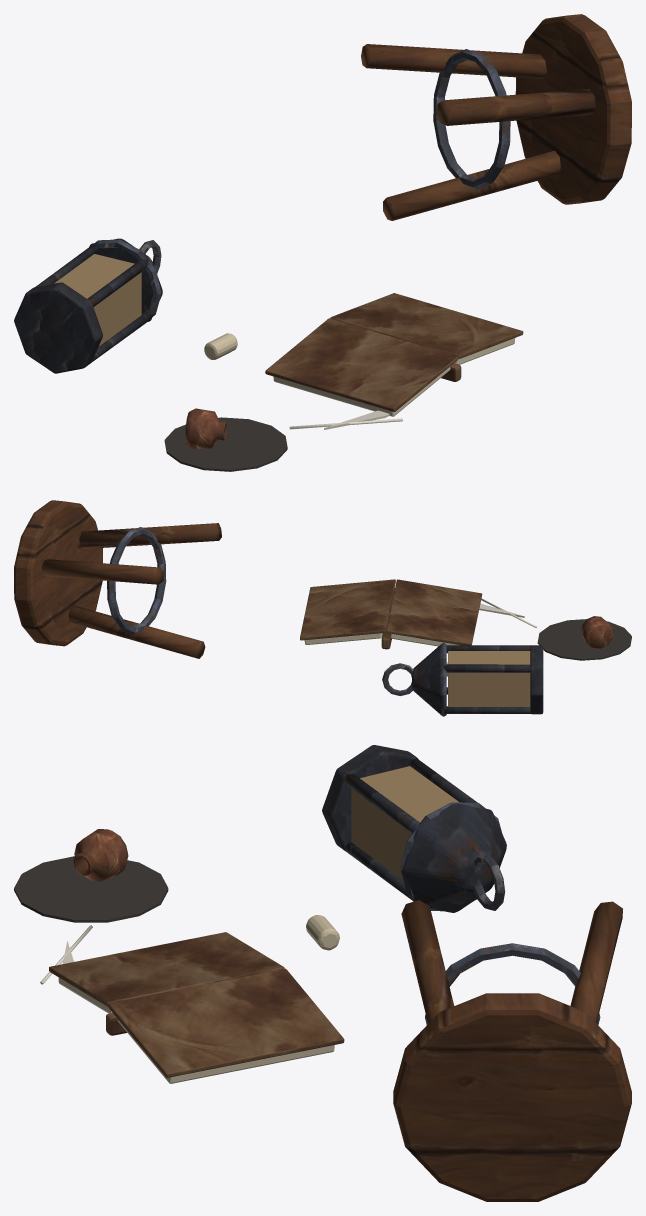
Rendered from vo_dropped_lantern.glb.
3 views of the same model, one above another, from view 1: azimuth 30°, elevation 25°; view 2: azimuth 150°, elevation 25°; view 3: azimuth 270°, elevation 25° (orthographic). The views are drawn at different scales.
Parts seen in each view (by area): view 1: model; view 2: model; view 3: model.
Boxes of the visible parts, box(x1,y1,x2,y2) form: model: box(14, 14, 631, 471); model: box(14, 500, 631, 716); model: box(14, 745, 631, 1201).
Bounding box in the file's own units: 1.26 × 0.3338 × 0.88.
11 materials, 5 textured.
